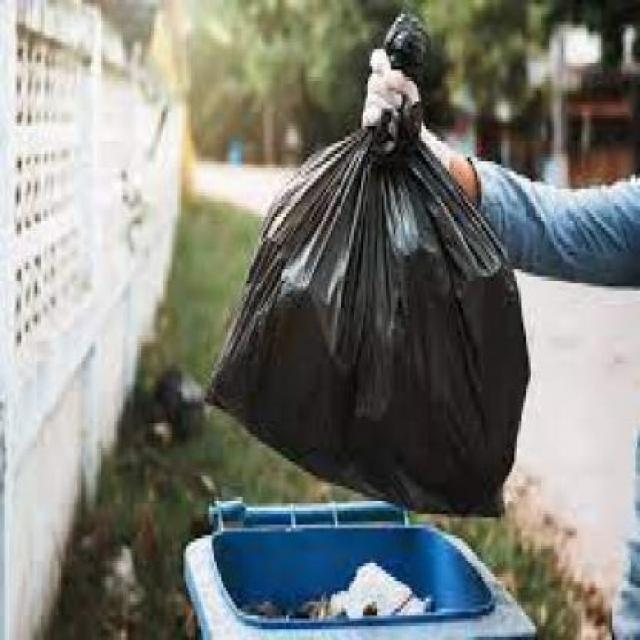garbage: (183, 14, 530, 525)
